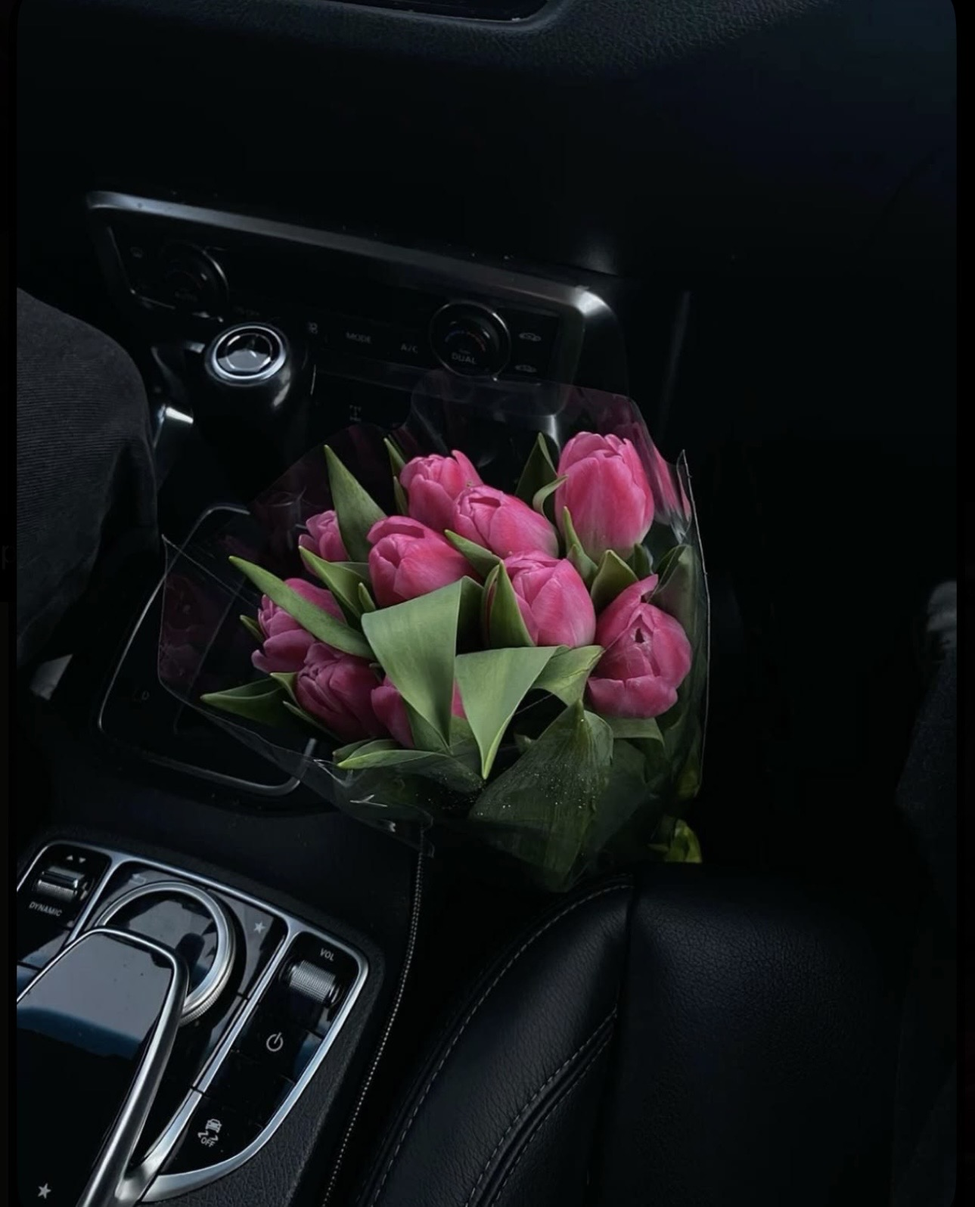tulip: (577, 566, 700, 725), (546, 420, 659, 583), (477, 545, 599, 669), (352, 511, 481, 627), (284, 630, 385, 757), (244, 574, 381, 666), (453, 476, 564, 585), (393, 443, 483, 541), (284, 498, 378, 587)
